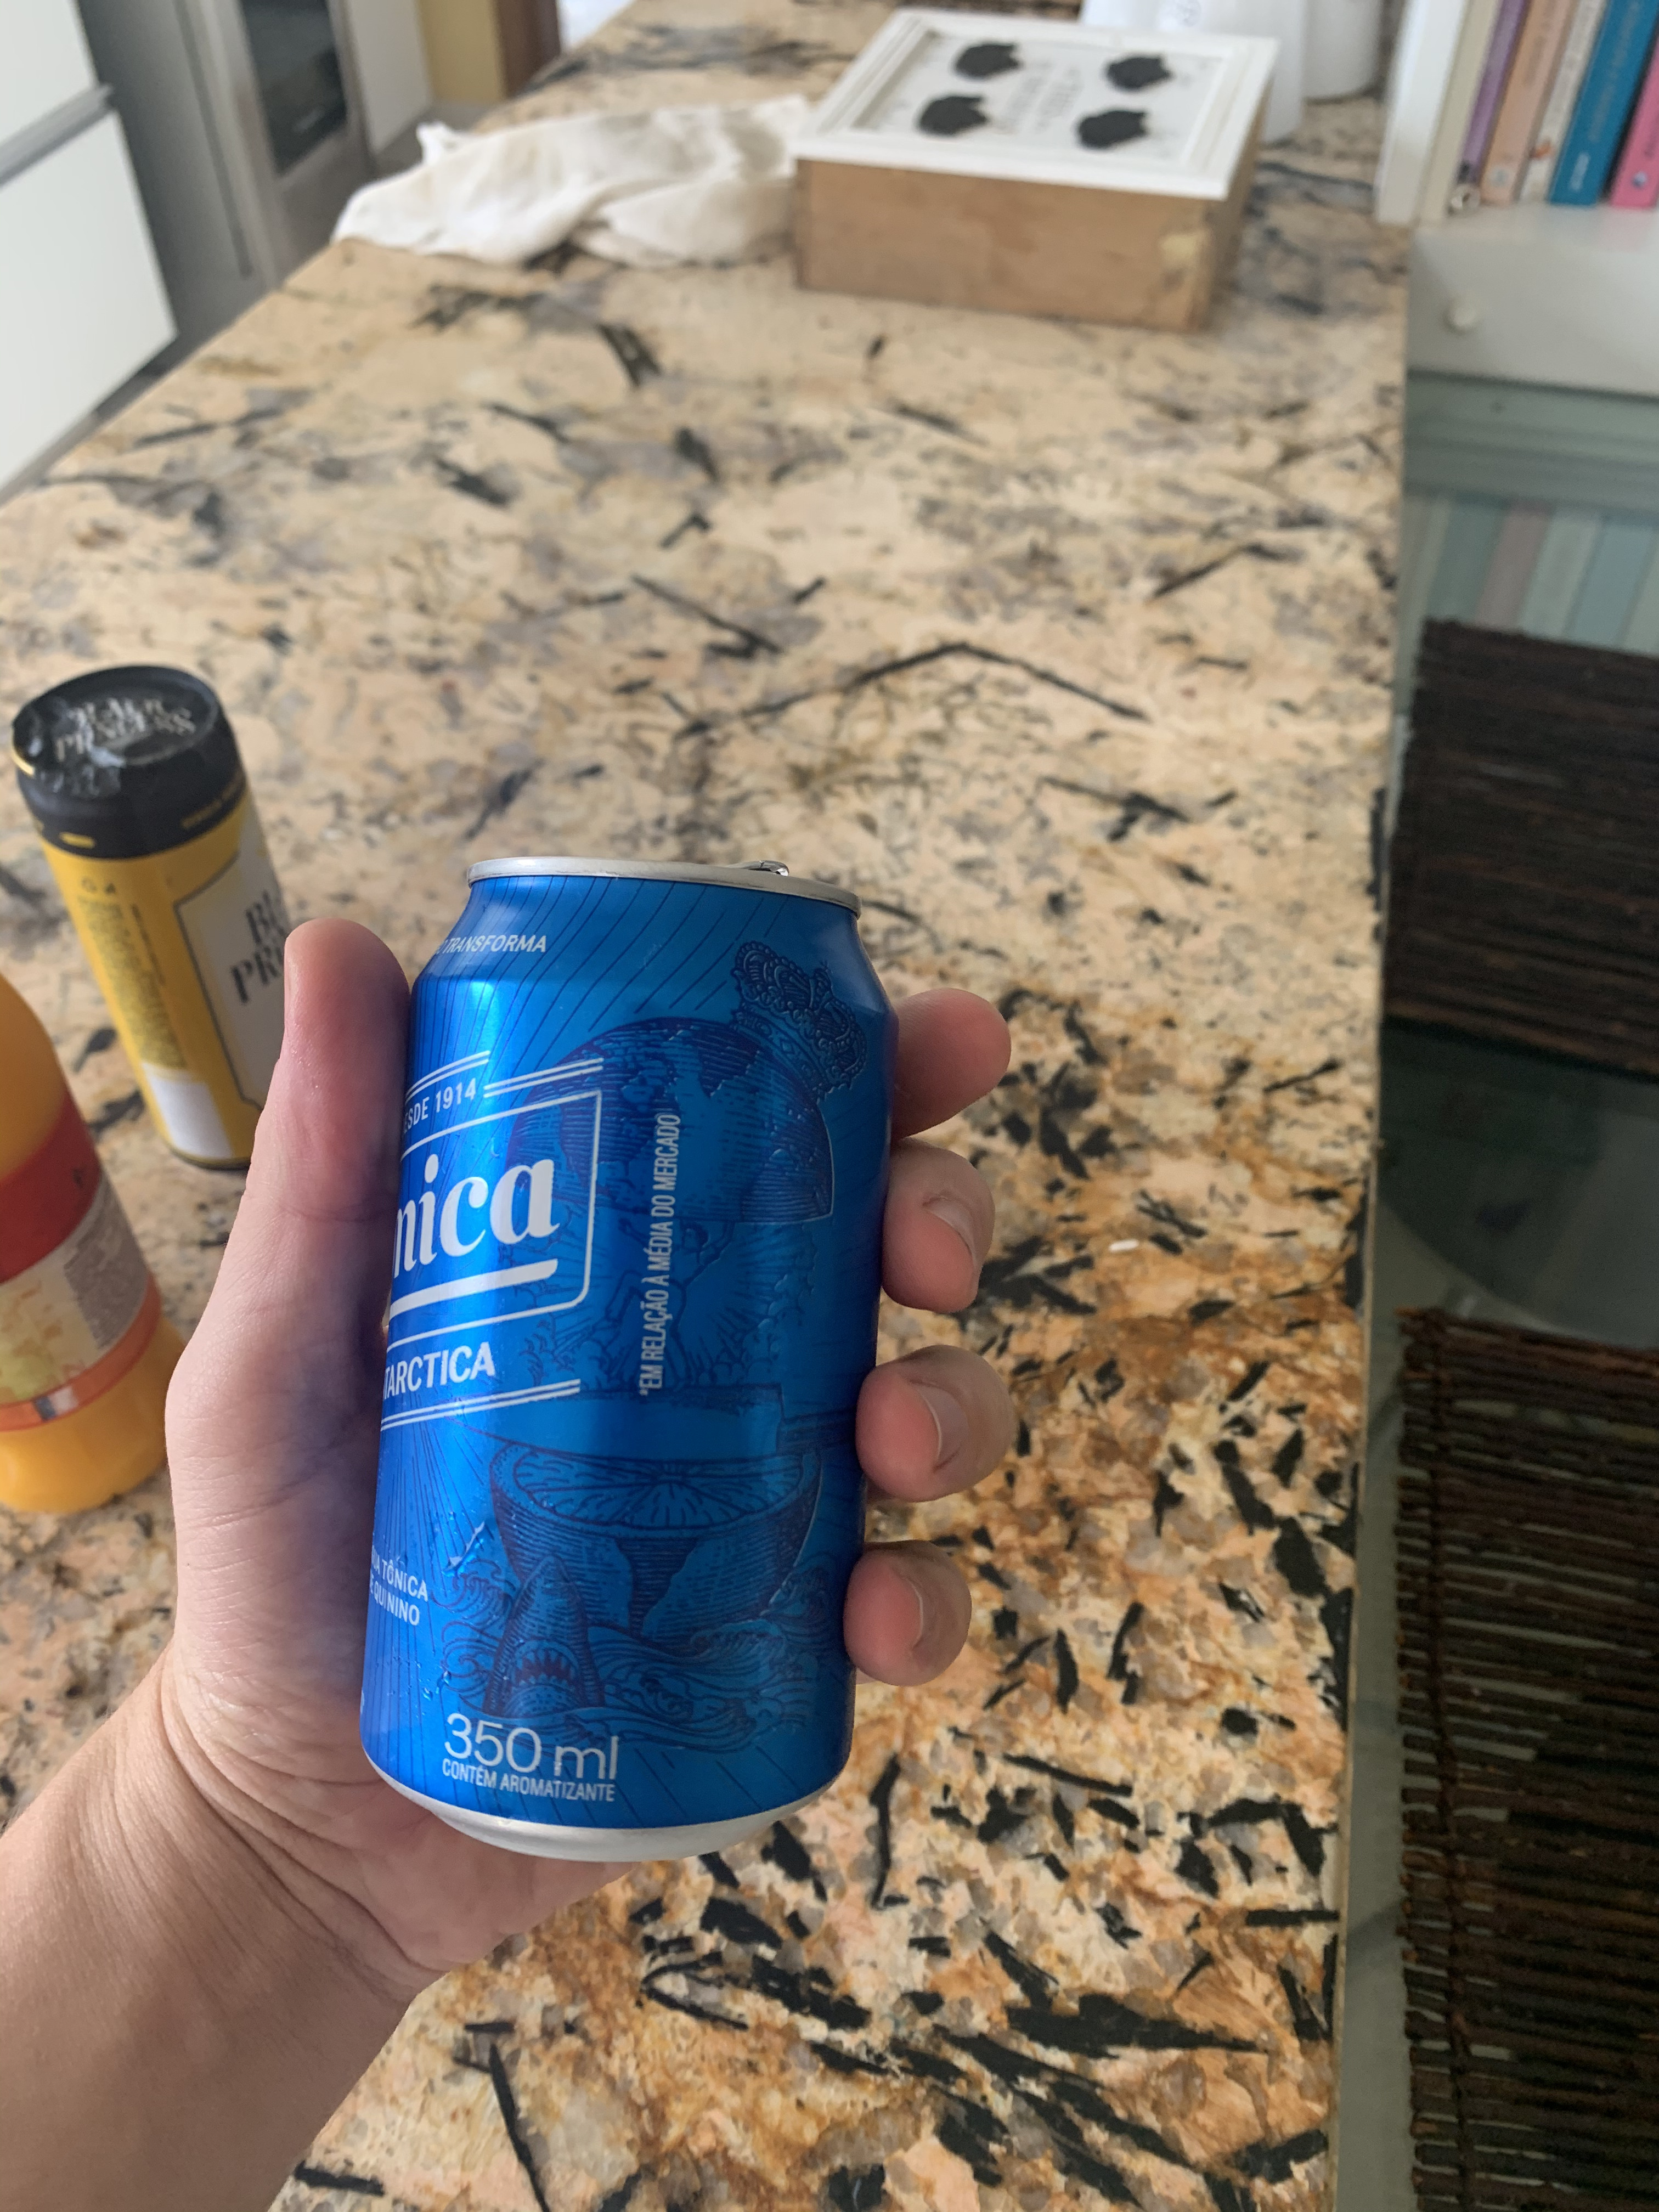tonica: (396, 824, 878, 1898)
